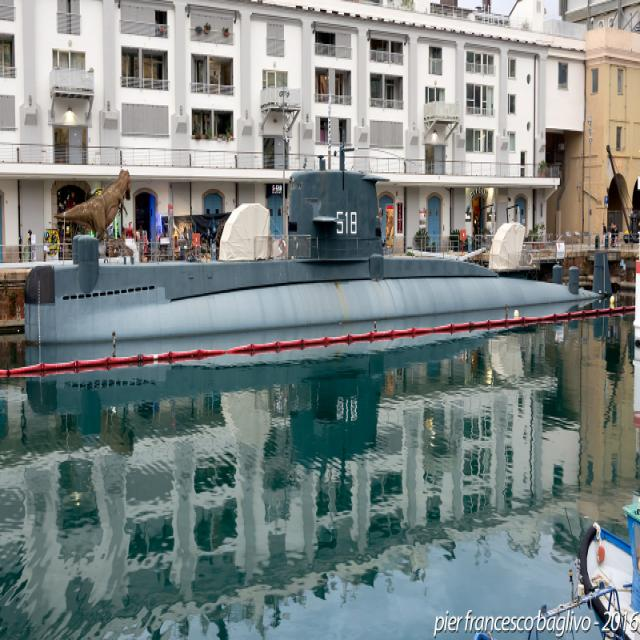submarine: (25, 153, 627, 367)
